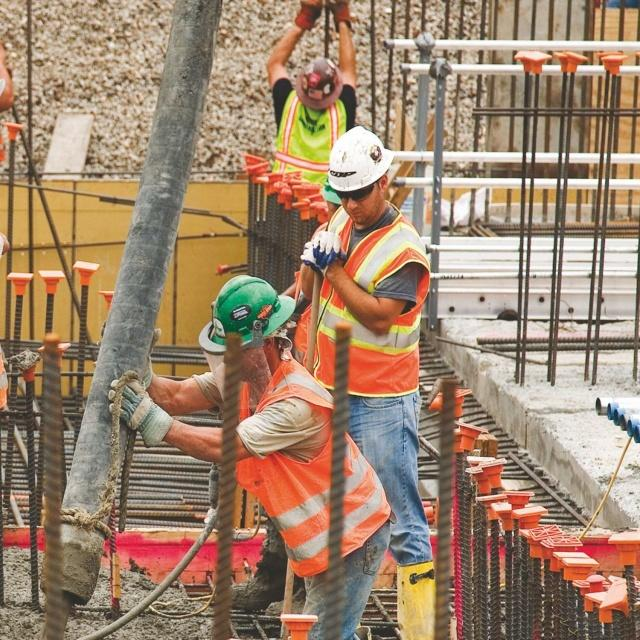helmet: (197, 356, 300, 505), (321, 167, 395, 304), (291, 73, 345, 151)
vest: (220, 492, 390, 640), (314, 286, 415, 518), (281, 121, 341, 280)
